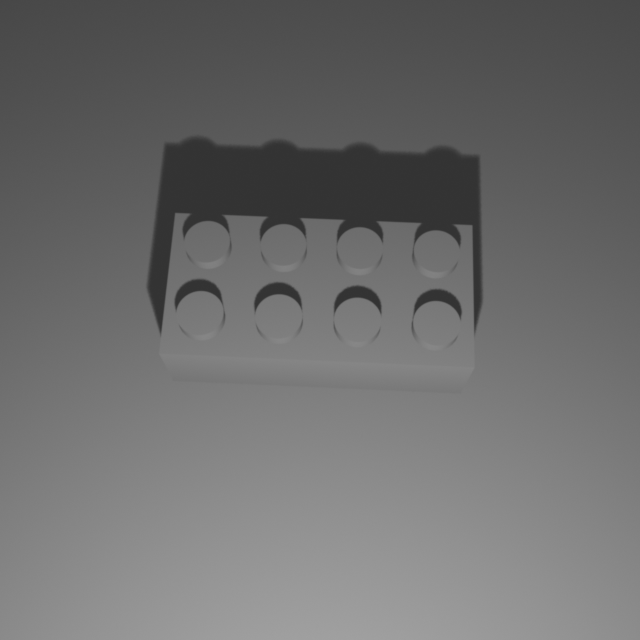lego_2x4: (156, 206, 477, 394)
